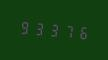nine: (18, 16, 31, 37)
seven: (60, 20, 73, 41)
six: (74, 21, 87, 42)
three: (32, 18, 45, 39), (46, 19, 59, 40)
